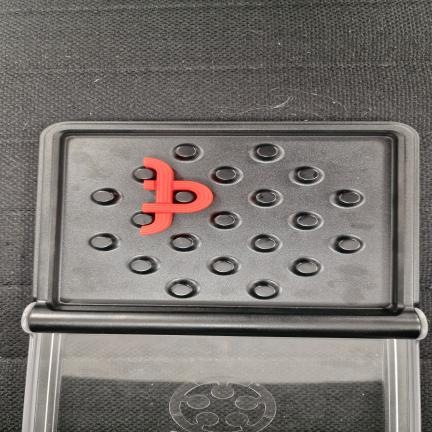E_Red: (141, 158, 213, 235)
board: (30, 122, 426, 338)
hinge: (23, 303, 426, 340)
pin: (92, 188, 120, 205), (172, 236, 194, 250), (338, 238, 361, 251), (255, 191, 277, 204), (296, 214, 318, 227), (254, 237, 276, 250), (170, 283, 192, 296), (175, 145, 196, 158), (257, 145, 278, 158), (132, 213, 153, 226), (91, 236, 112, 249), (296, 261, 317, 274), (213, 260, 234, 273), (215, 169, 237, 181), (174, 191, 196, 203), (339, 192, 361, 204), (254, 285, 276, 297), (298, 168, 318, 181), (134, 168, 155, 180), (214, 214, 235, 226), (131, 260, 152, 272)
